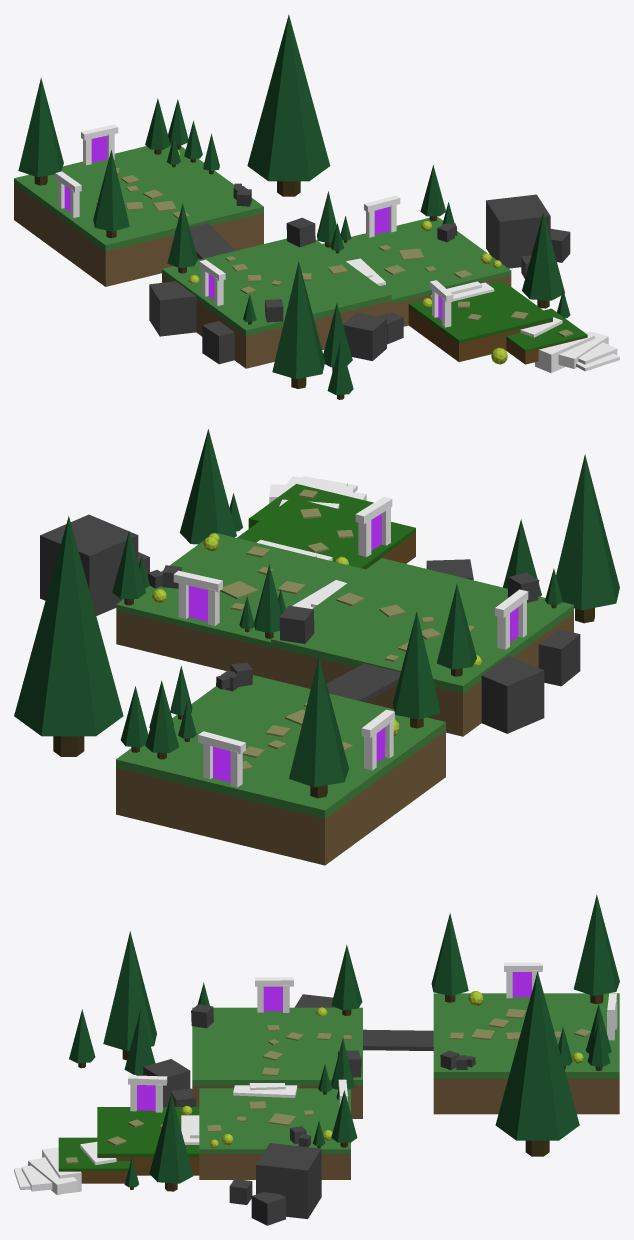
Rendered from environment_purple_portals.glb.
3 views of the same model, one above another, from view 1: azimuth 30°, elevation 25°; view 2: azimuth 150°, elevation 25°; view 3: azimuth 270°, elevation 25° (orthographic). The views are drawn at different scales.
Parts seen in each view (by area): view 1: terrain.004, terrain.001, trees.019, terrain, terrain.002, trees.007, rocks.003, trees.013, rocks.014, trees.005, trees.012, terrain.003 (+14 smaller); view 2: terrain.004, terrain.001, terrain, trees.019, trees.007, terrain.002, rocks.003, trees.013, rocks.014, trees.005, trees.012, rocks.013 (+15 smaller); view 3: terrain.004, terrain.001, terrain, trees.019, terrain.002, rocks.003, trees.007, trees.013, trees.005, terrain.003, trees.012, rocks (+17 smaller).
Boxes of the visible parts, left/top/right/bottom form: terrain.004: left=14, top=145, right=263, bottom=286; terrain.001: left=162, top=238, right=391, bottom=368; trees.019: left=247, top=14, right=330, bottom=196; terrain: left=322, top=216, right=511, bottom=326; terrain.002: left=408, top=280, right=552, bottom=361; trees.007: left=272, top=261, right=324, bottom=388; rocks.003: left=486, top=194, right=550, bottom=268; trees.013: left=18, top=77, right=63, bottom=185; rocks.014: left=149, top=281, right=196, bottom=336; trees.005: left=522, top=212, right=564, bottom=308; trees.012: left=93, top=150, right=129, bottom=238; terrain.003: left=506, top=308, right=587, bottom=364; terrain.004: left=116, top=675, right=445, bottom=865; terrain.001: left=271, top=558, right=573, bottom=736; terrain: left=116, top=532, right=365, bottom=679; trees.019: left=14, top=516, right=123, bottom=756; trees.007: left=556, top=454, right=619, bottom=623; terrain.002: left=237, top=497, right=415, bottom=569; rocks.003: left=40, top=514, right=138, bottom=615; trees.013: left=289, top=656, right=348, bottom=798; rocks.014: left=481, top=655, right=544, bottom=733; trees.005: left=180, top=429, right=236, bottom=544; trees.012: left=392, top=611, right=440, bottom=728; rocks.013: left=538, top=629, right=580, bottom=686; terrain.004: left=433, top=993, right=619, bottom=1114; terrain.001: left=192, top=1007, right=362, bottom=1118; terrain: left=199, top=1088, right=350, bottom=1179; trees.019: left=495, top=971, right=579, bottom=1156; terrain.002: left=97, top=1107, right=199, bottom=1175; rocks.003: left=256, top=1143, right=321, bottom=1218; trees.007: left=103, top=931, right=156, bottom=1060; trees.013: left=573, top=894, right=619, bottom=1004; trees.005: left=149, top=1094, right=193, bottom=1191; terrain.003: left=58, top=1137, right=130, bottom=1183; trees.012: left=431, top=913, right=468, bottom=1002; rocks: left=363, top=1029, right=433, bottom=1051.
Size of what is drawn, in the model's own units: 40.39 by 18.17 by 53.04.
